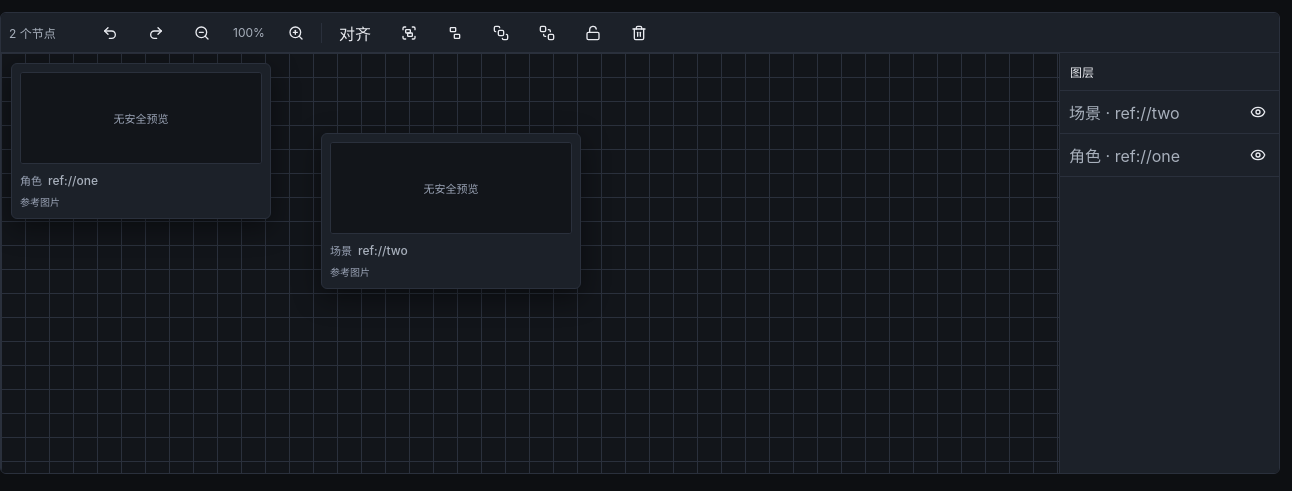
Test case: ImageInfiniteCanvas › hides and restores a node from the layer list
Check: the element showing "无安全预览 角色 ref://one 参考图片" is shown, box [11,63,271,219]
Click the button named "隐藏 ref://one" at {"x": 1258, "y": 155}, box [1237,138,1279,172]
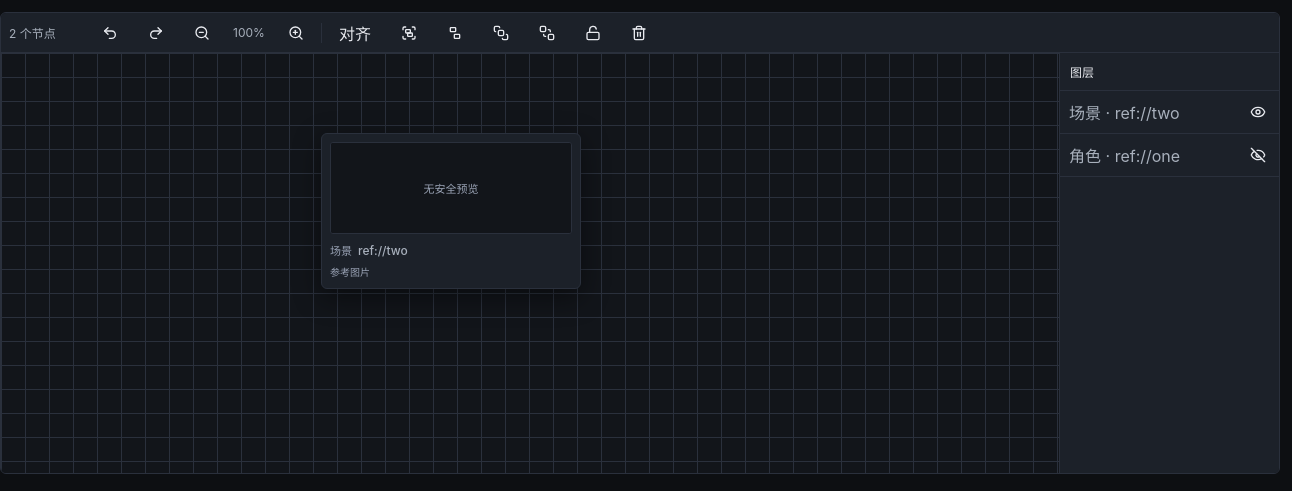
Click the button named "显示 ref://one" at {"x": 1258, "y": 155}, box [1237,138,1279,172]
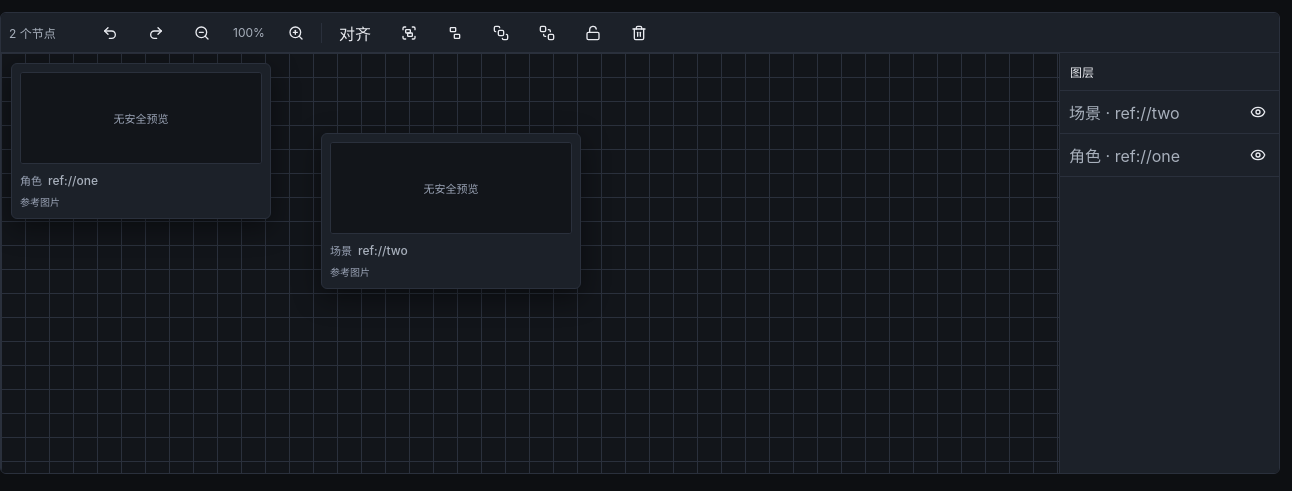
Check: the element showing "无安全预览 角色 ref://one 参考图片" is shown, box [11,63,271,219]
